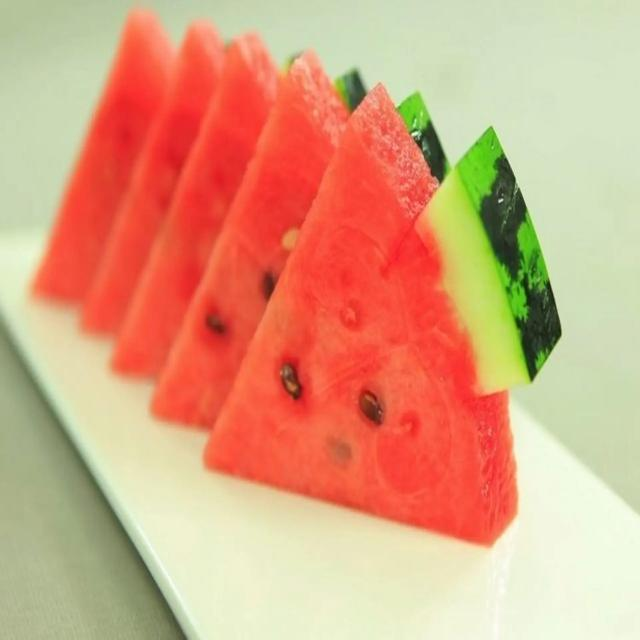dua hau: (205, 84, 561, 543), (151, 54, 347, 429)
